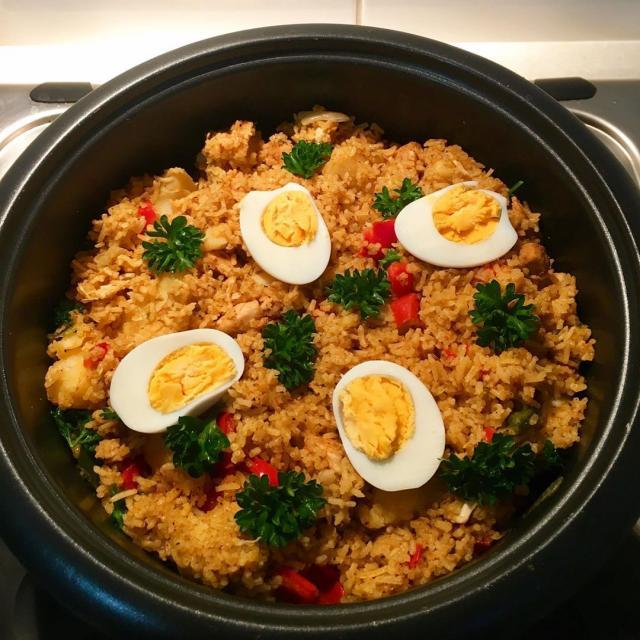biryani: (25, 62, 515, 538)
